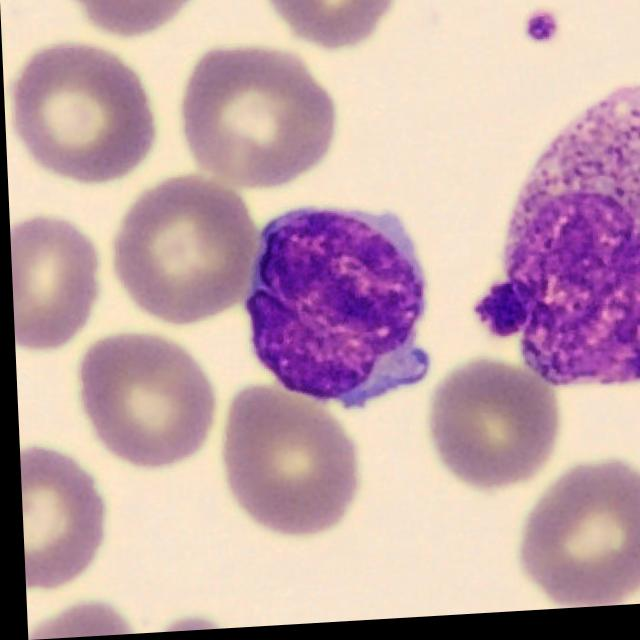Linfocito: (242, 212, 426, 411)
